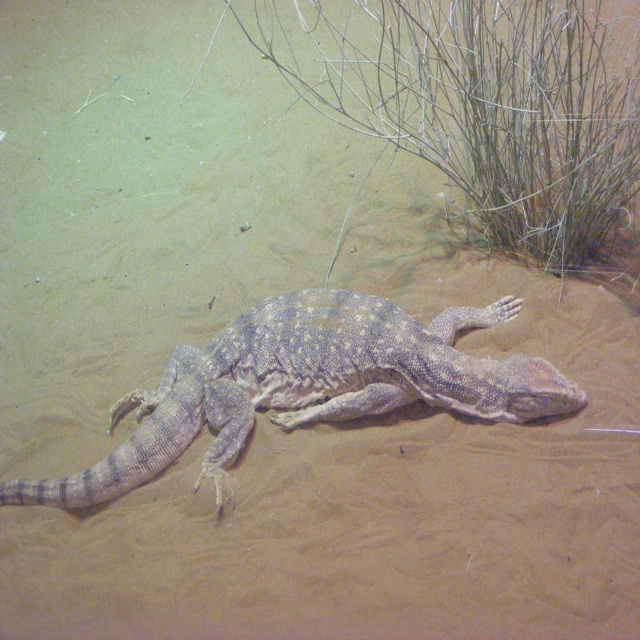Lizard: (6, 300, 585, 515)
